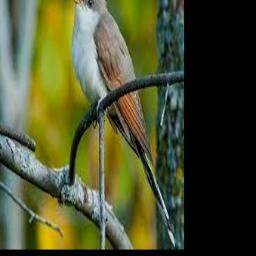Cuckoo: (70, 0, 177, 250)
